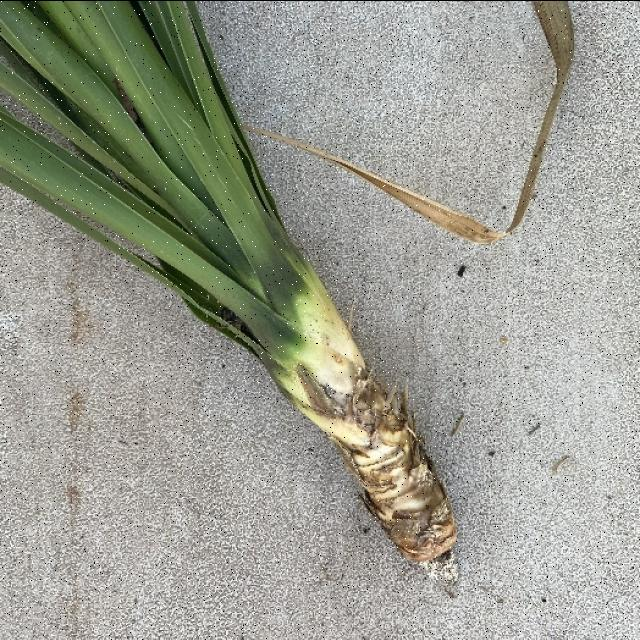organik: (0, 0, 466, 575)
